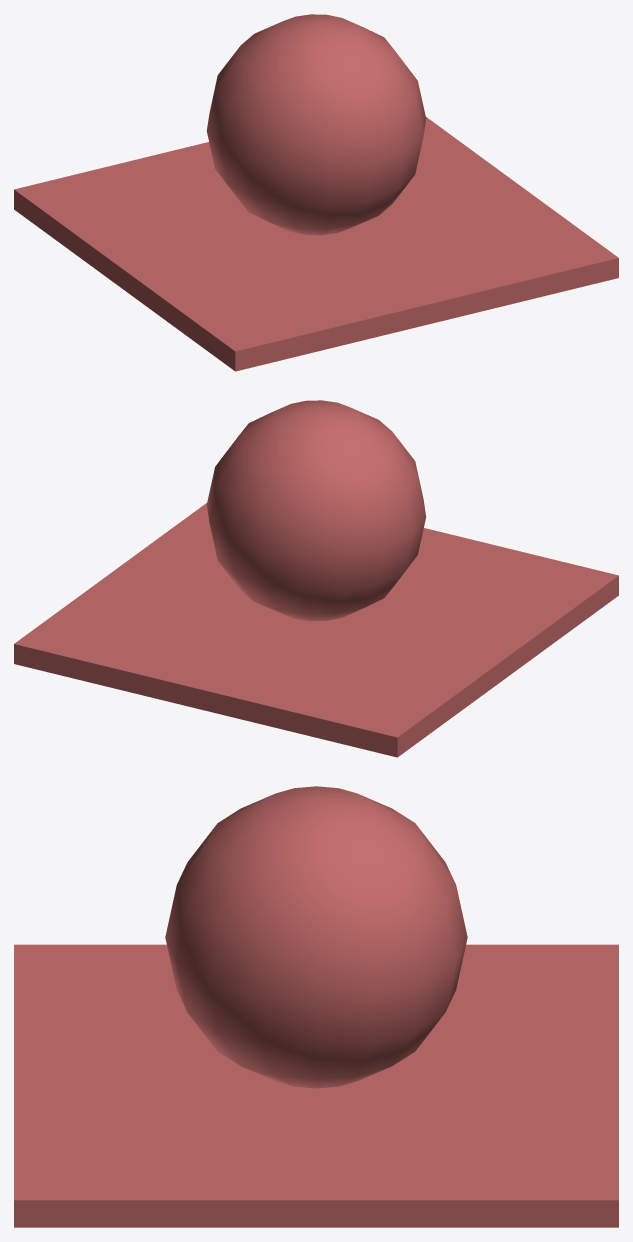
The model's file is sphereandplane.obj.
The picture shows the model from 3 angles, top to bottom: view 1: azimuth 30°, elevation 25°; view 2: azimuth 150°, elevation 25°; view 3: azimuth 270°, elevation 25°; orthographic projection. The views are drawn at different scales.
Parts seen in each view (by area): view 1: Box001, Sphere001; view 2: Box001, Sphere001; view 3: Box001, Sphere001.
Boxes of the visible parts, x1,y1,x2,y2 form: Box001: (14, 117, 618, 371); Sphere001: (206, 14, 426, 235); Box001: (14, 503, 618, 757); Sphere001: (206, 400, 426, 621); Box001: (14, 944, 618, 1227); Sphere001: (165, 786, 467, 1088).
Bounding box in the file's own units: 0.9214 × 0.5033 × 0.9214.
